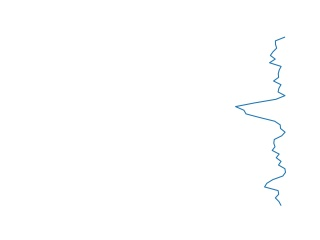interdistributaryEstuary: (231, 35, 293, 206)
